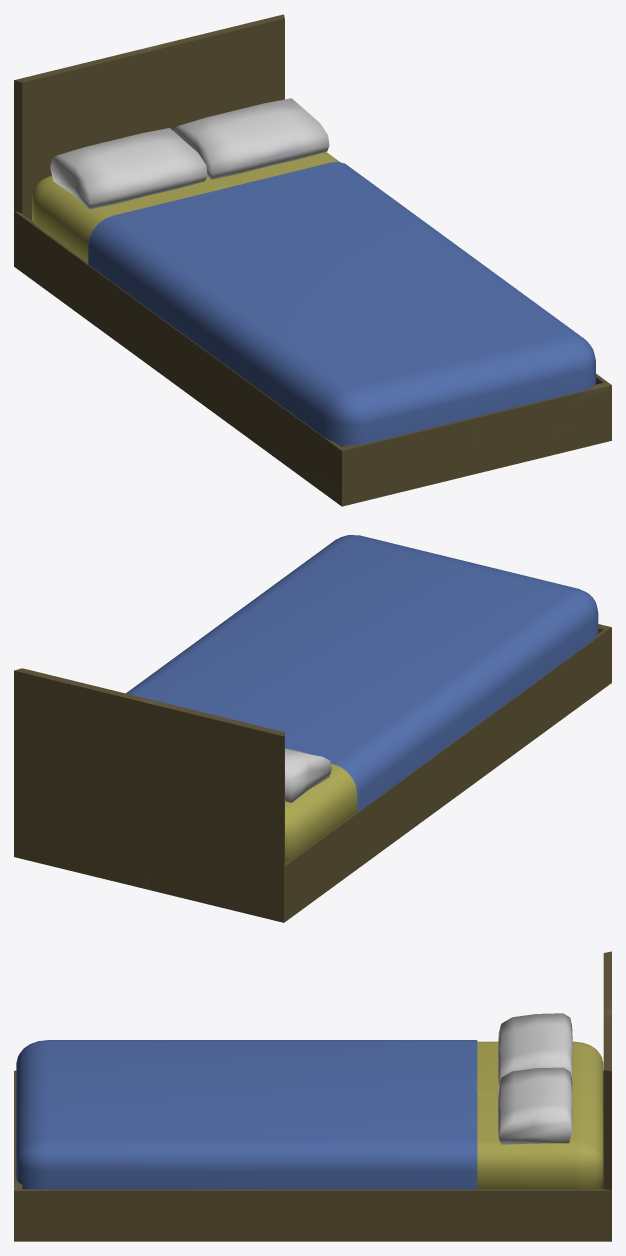
File: Bed.fbx
The picture shows the model from 3 angles, top to bottom: view 1: azimuth 30°, elevation 25°; view 2: azimuth 150°, elevation 25°; view 3: azimuth 270°, elevation 25°; orthographic projection. The views are drawn at different scales.
Visible parts, largest first — view 1: Cube.006; view 2: Cube.006; view 3: Cube.006.
Boxes of the visible parts, x1=… form: Cube.006: x1=14, y1=14, x2=611, y2=506; Cube.006: x1=14, y1=535, x2=611, y2=922; Cube.006: x1=14, y1=951, x2=611, y2=1241.
Size of the model in its own units: 0.9652 by 0.6367 by 2.03.
